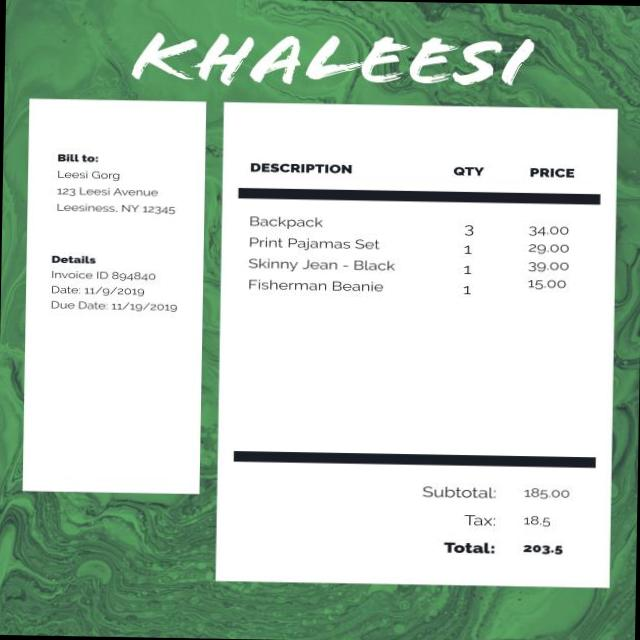customer_address: (52, 182, 182, 220)
customer_name: (54, 167, 127, 183)
due_date: (110, 300, 177, 316)
invoice_date: (83, 284, 152, 300)
invoice_number: (108, 264, 158, 283)
invoice_subtotal: (517, 481, 573, 502)
invoice_total: (519, 538, 568, 558)
item_description: (244, 210, 408, 300)
item_quantity: (449, 210, 482, 305)
item_total_price: (522, 218, 576, 296)
supplier_name: (125, 22, 536, 94)
tax_amount: (518, 512, 562, 530)
